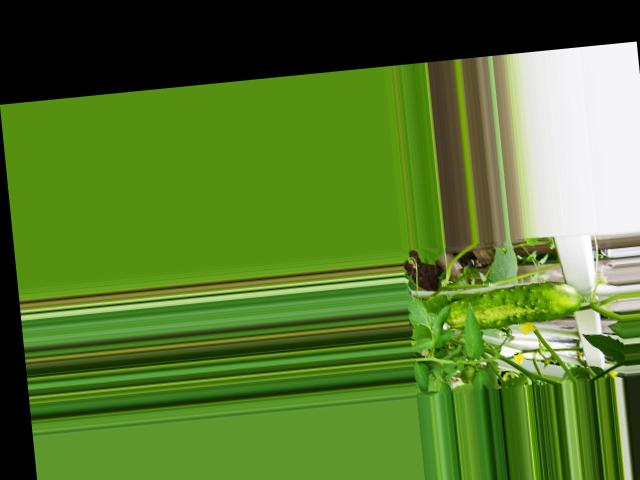cucumber: (444, 278, 583, 331)
